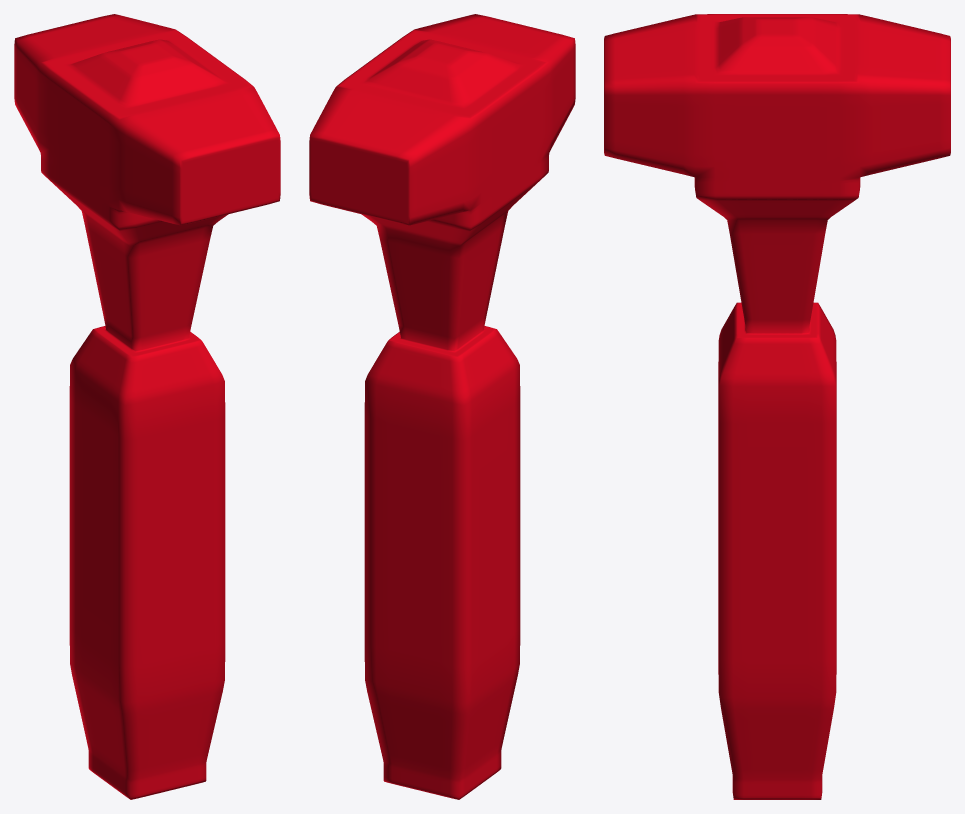
Rendered from DamageIcon.fbx.
3 renders of one model, left to right at view 1: azimuth 30°, elevation 25°; view 2: azimuth 150°, elevation 25°; view 3: azimuth 270°, elevation 25°, orthographic. The views are drawn at different scales.
Visible parts, largest first — view 1: Hammer; view 2: Hammer; view 3: Hammer.
Part boxes in pixels (bbox=[...]): Hammer: bbox=[14, 14, 280, 799]; Hammer: bbox=[309, 14, 575, 799]; Hammer: bbox=[604, 14, 950, 799].
Bounding box in the file's own units: 65.14 × 327 × 137.
